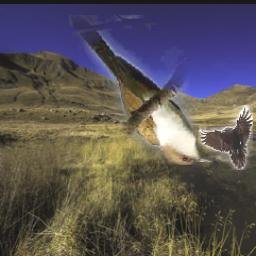Crow: (200, 106, 254, 171)
Cuckoo: (69, 16, 214, 166)
